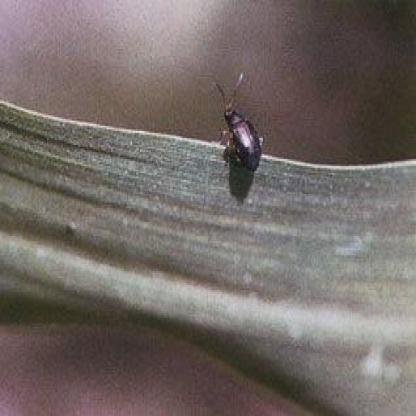beetle: (213, 78, 267, 170)
